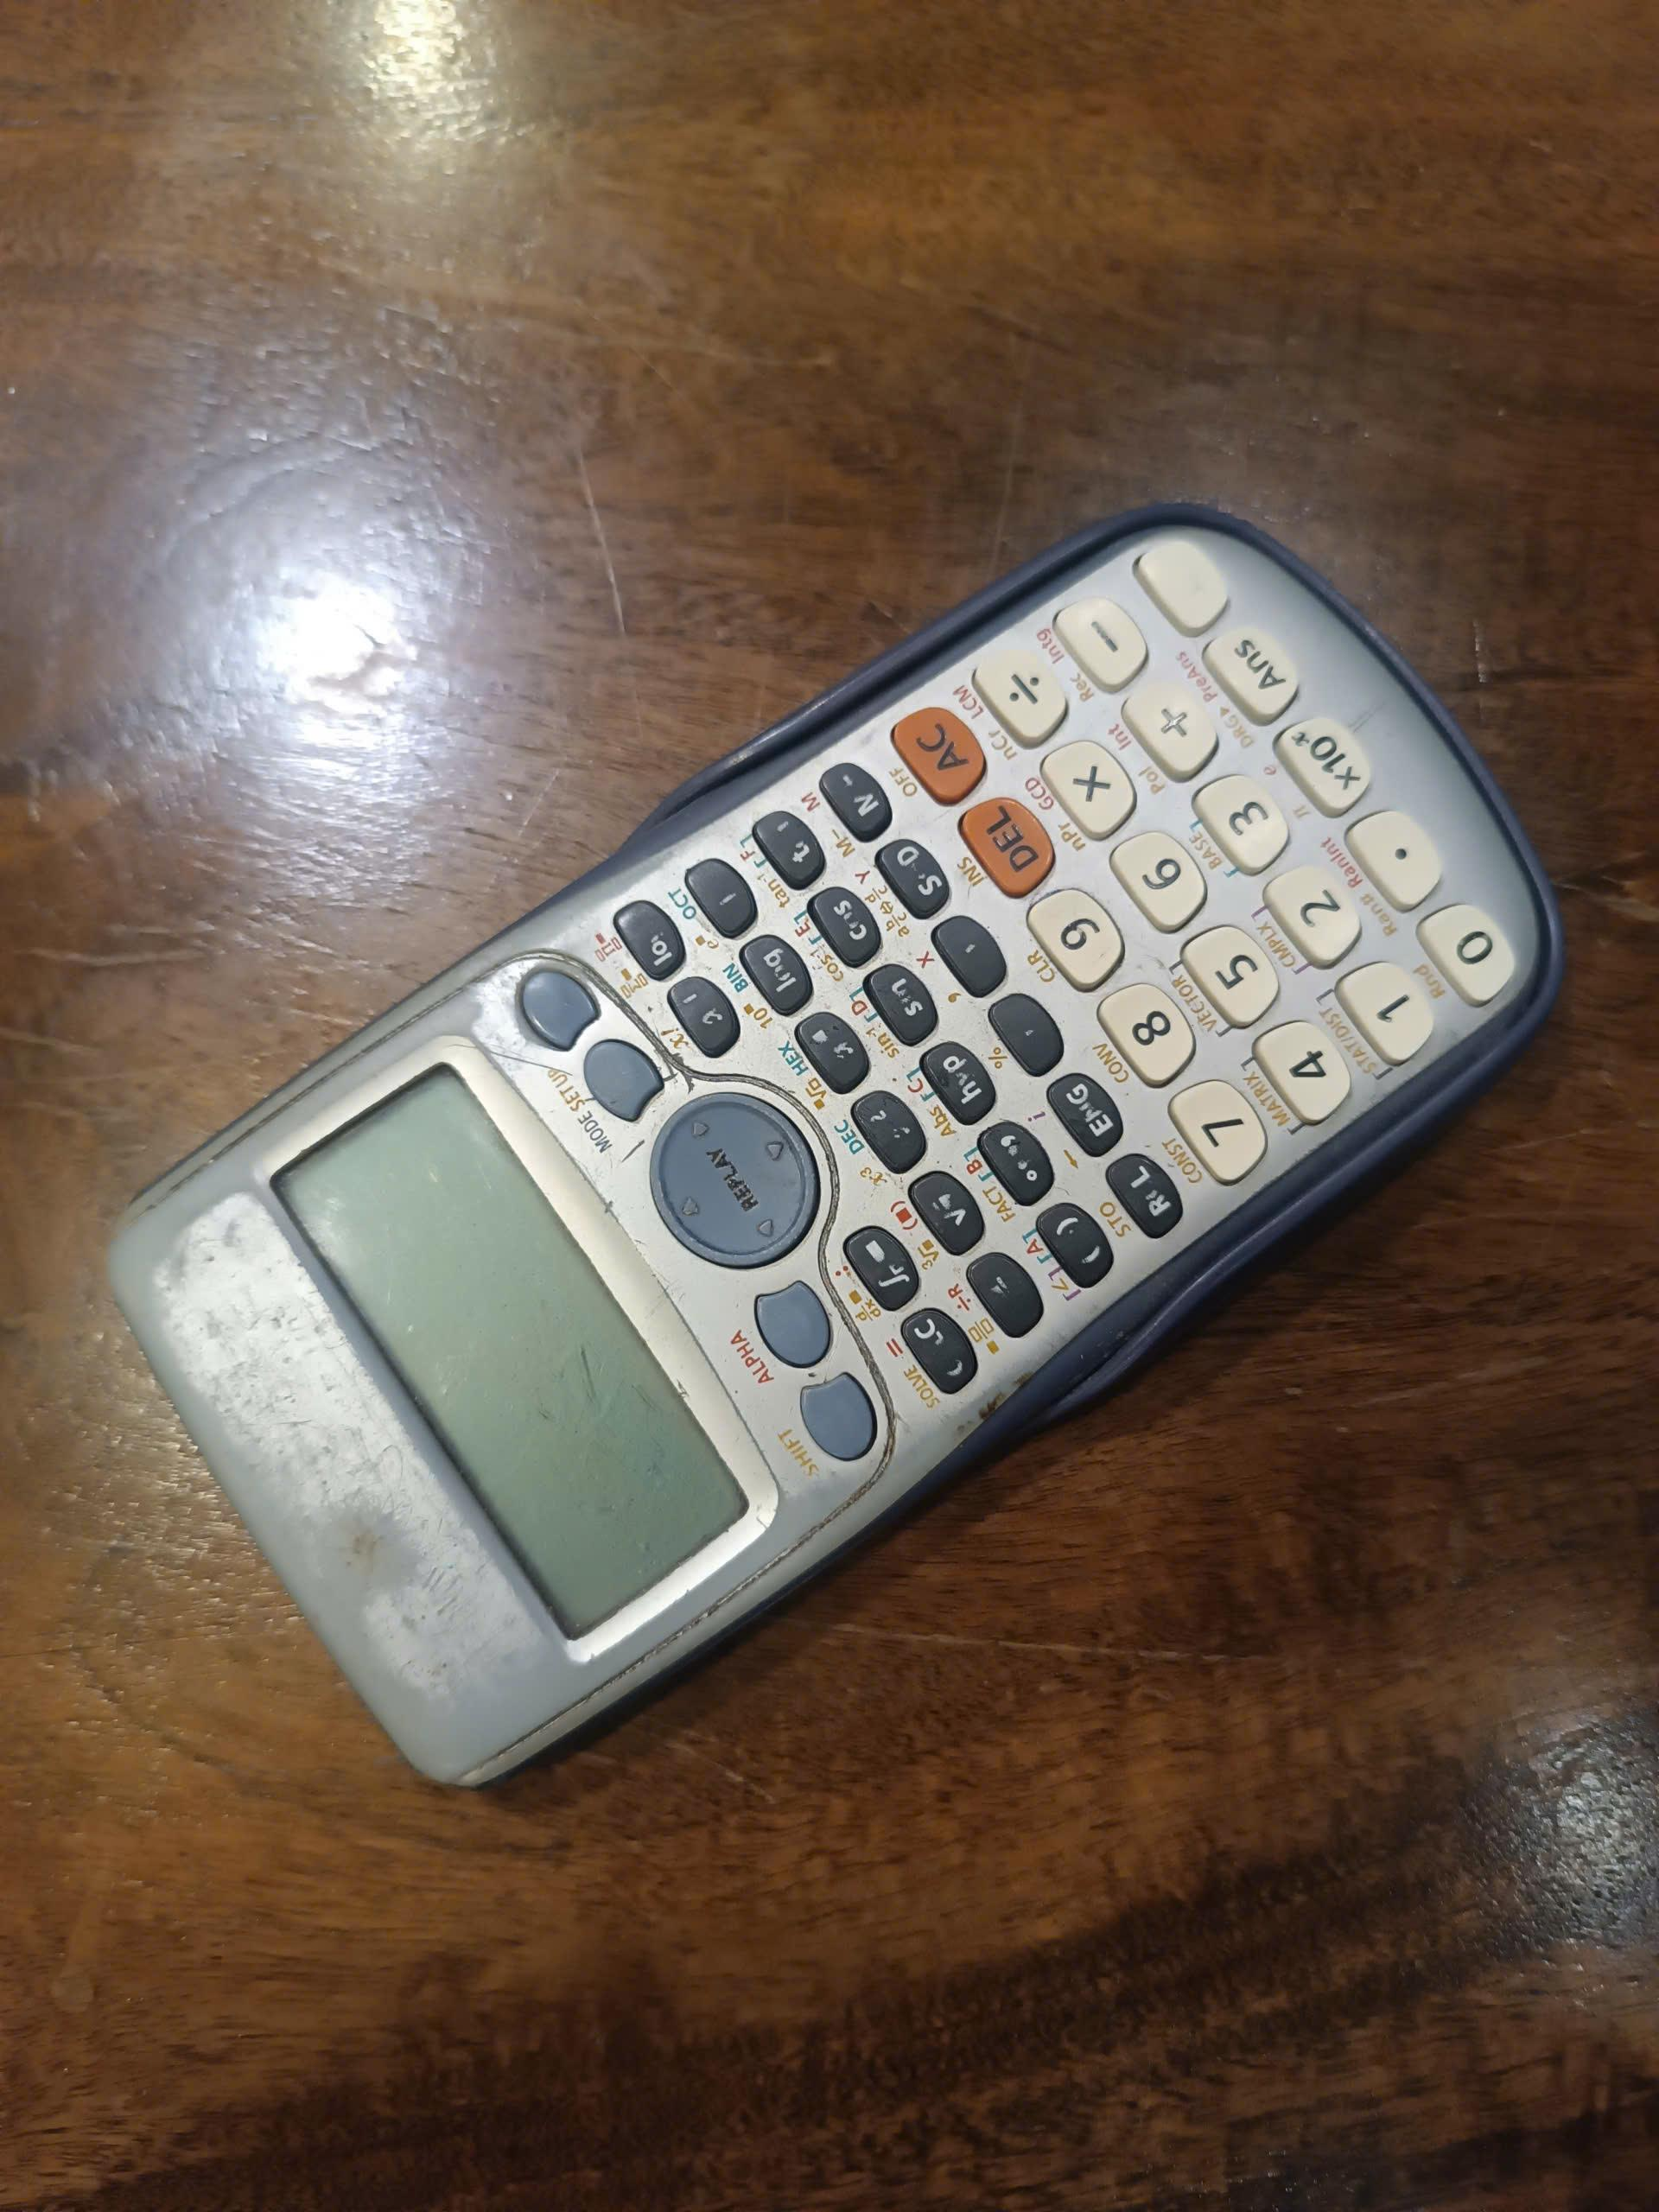Con lai: (125, 502, 1568, 1792)
